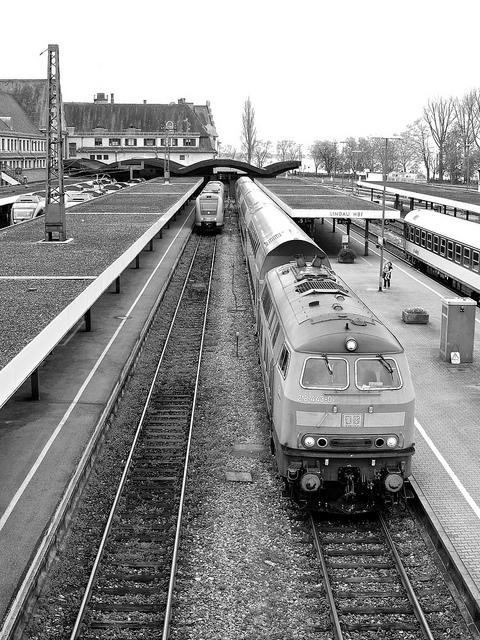Train: (233, 179, 421, 525), (403, 209, 480, 308), (195, 181, 227, 233)
